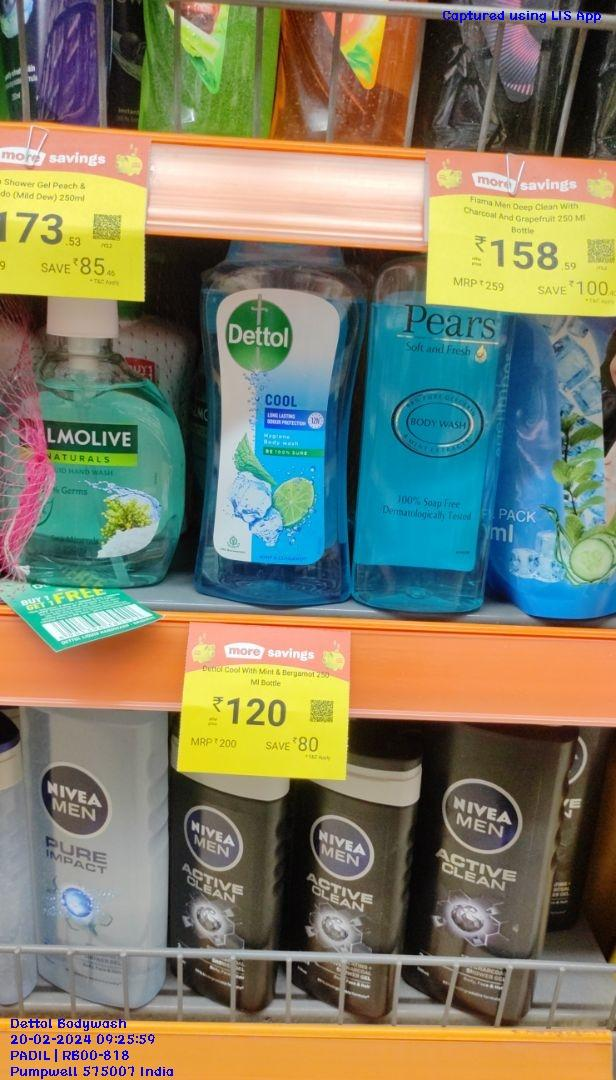Dettol_Bodywash_Cool: (195, 240, 347, 609)
